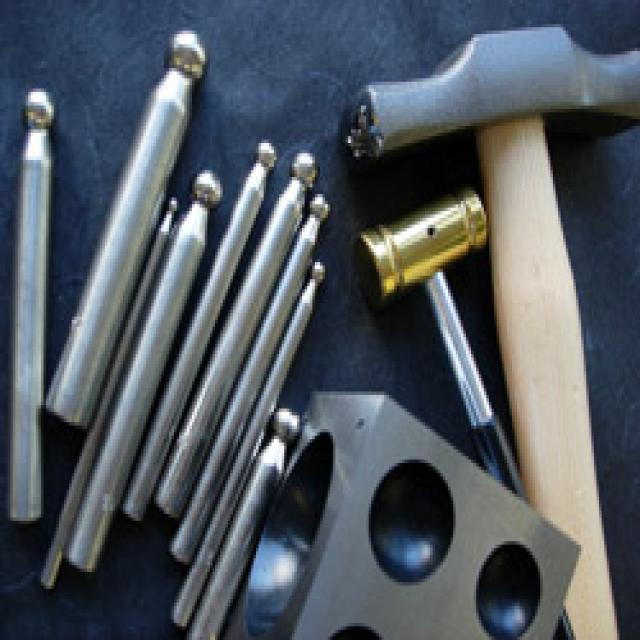hammer: (338, 10, 640, 640), (346, 179, 556, 583)
